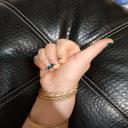ThumbsUp: (30, 34, 116, 90)
